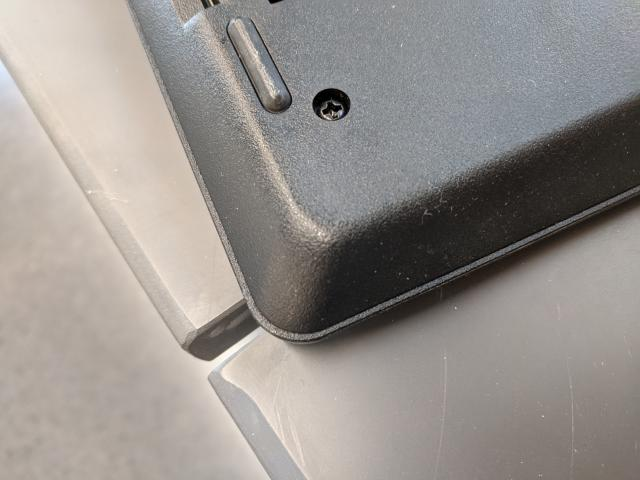CRS: (316, 97, 350, 120)
